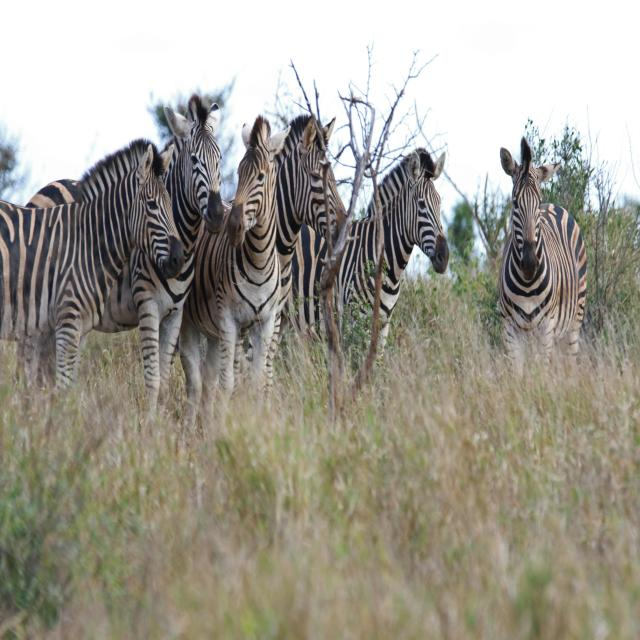Zebra: (24, 94, 226, 412), (178, 112, 348, 407), (240, 145, 450, 378), (0, 139, 184, 400), (156, 113, 282, 402), (500, 135, 588, 366)
